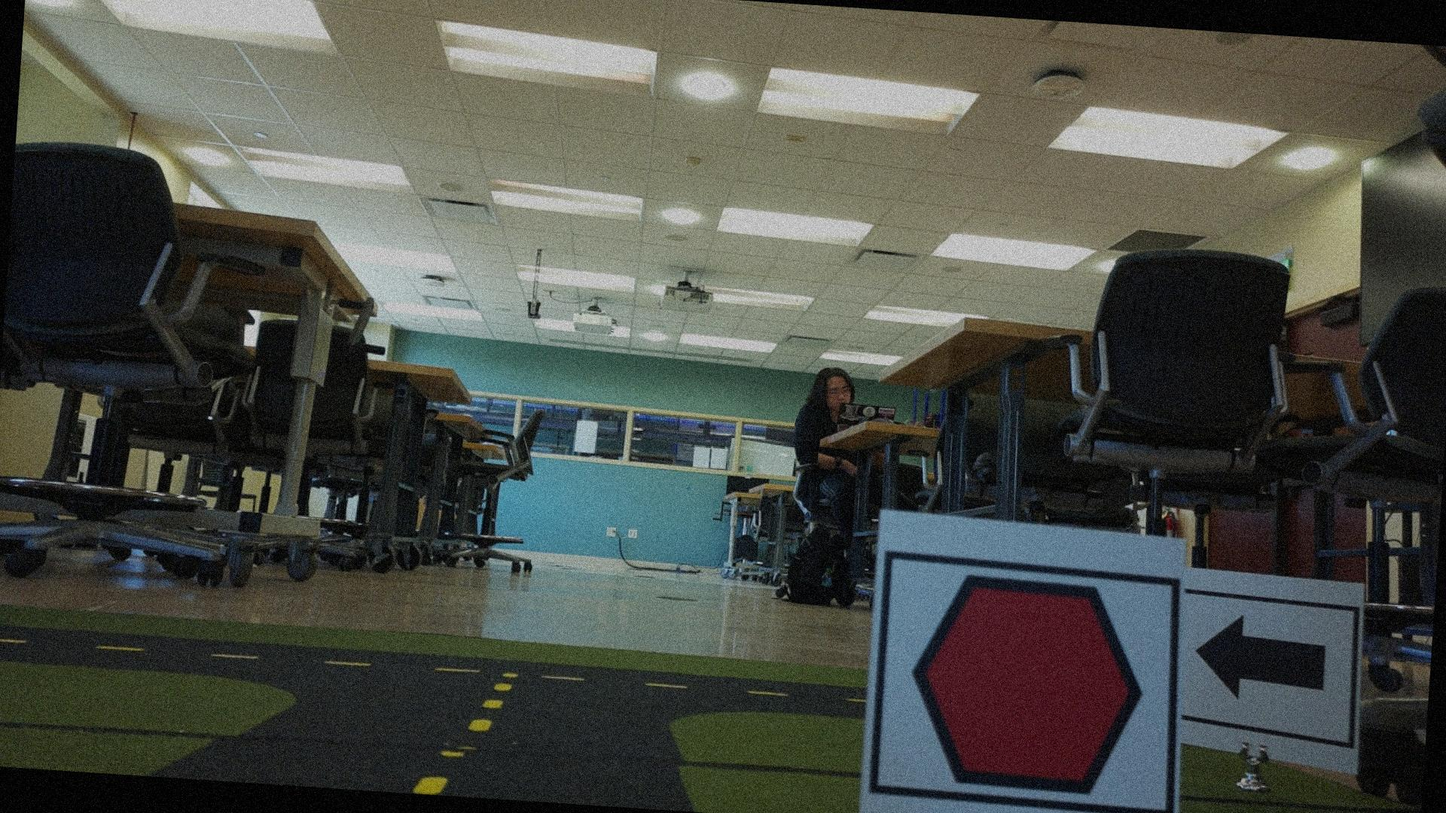stop: (890, 561, 1161, 808)
turnright: (1178, 603, 1356, 729)
yellowline: (410, 676, 507, 799)
